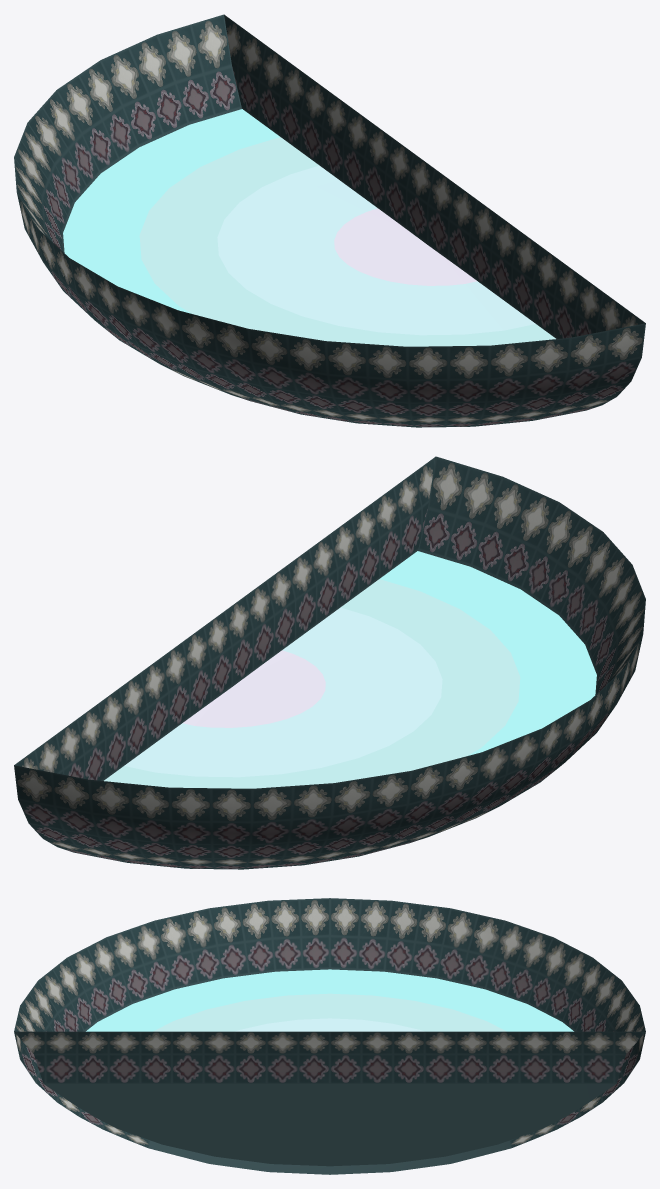
File: CA_040_041_water_pile.glb
3 renders of one model, top to bottom at view 1: azimuth 30°, elevation 25°; view 2: azimuth 150°, elevation 25°; view 3: azimuth 270°, elevation 25°, orthographic. The views are drawn at different scales.
Parts seen in each view (by area): view 1: pile, water; view 2: pile, water; view 3: pile, water.
Part boxes in pixels (box(x1,y1,x2,y2)): pile: box(14, 14, 645, 427); water: box(63, 109, 555, 346); pile: box(14, 456, 645, 869); water: box(104, 551, 596, 788); pile: box(14, 898, 645, 1174); water: box(86, 969, 573, 1031).
Bounding box in the file's own units: 0.7357 × 0.3678 × 1.47.
6 materials, 1 textured.
